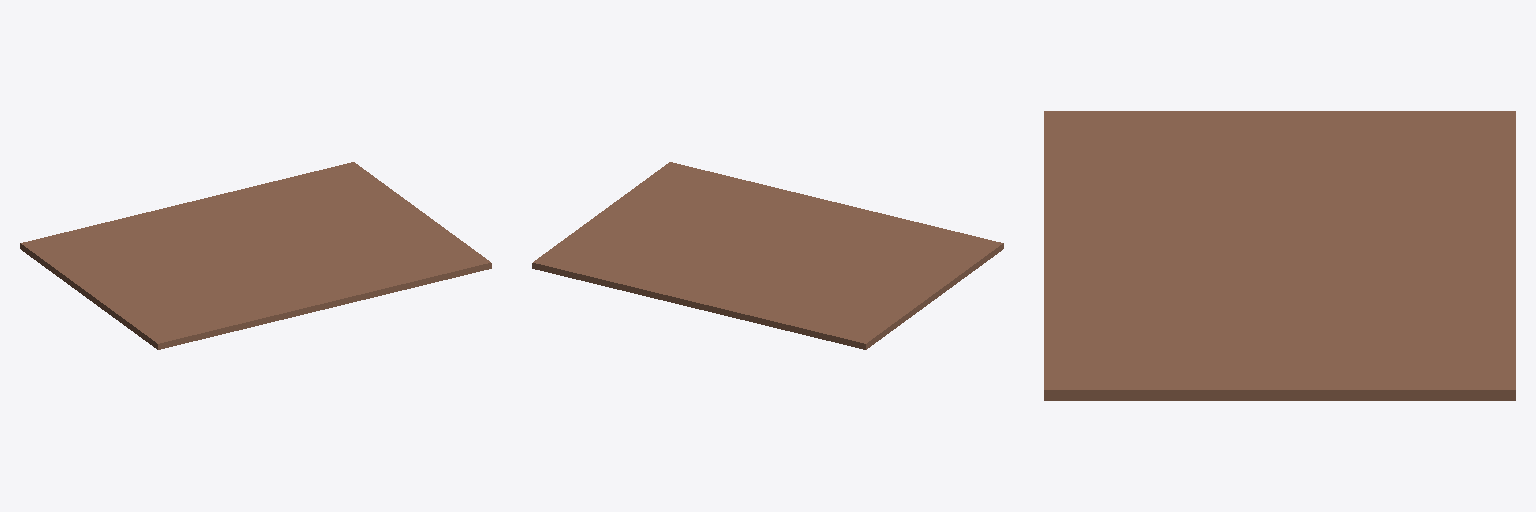
The robot description file, URDF, robot "kit.urdf":
<?xml version="0.0" ?>
<robot name="kit.urdf">
  <link name="baseLink">
    <contact>
      <lateral_friction value="1.0"/>
      <rolling_friction value="0.0001"/>
      <inertia_scaling value="3.0"/>
    </contact>
    <inertial>
      <origin rpy="0 0 0" xyz="0 0 0"/>
       <mass value=".1"/>
       <inertia ixx="1" ixy="0" ixz="0" iyy="1" iyz="0" izz="1"/>
    </inertial>
    <visual>
      <origin rpy="0 0 0" xyz="0 0 0"/>
      <geometry>
        <box size=".28 .2 .005"/>
      </geometry>
      <material name="brown">
        <color rgba="0.61176471 0.45882353 0.37254902 1"/>
      </material>
    </visual>
    <collision>
      <origin rpy="0 0 0" xyz="0 0 0"/>
      <geometry>
        <box size=".28 .2 .005"/>
      </geometry>
    </collision>
  </link>
</robot>

--- What the picture shows (computed from the rendered views, not written in the file) ---
The picture shows the robot from 3 angles, left to right: view 1: azimuth 30°, elevation 25°; view 2: azimuth 150°, elevation 25°; view 3: azimuth 270°, elevation 25°; orthographic projection.
Model kit.urdf with 1 links and 0 joints (none), rooted at baseLink, posed every joint at zero.
Links seen in each view (by area): view 1: baseLink; view 2: baseLink; view 3: baseLink.
Boxes of the visible links, x1=… form: baseLink: x1=20, y1=162, x2=491, y2=349; baseLink: x1=532, y1=162, x2=1003, y2=349; baseLink: x1=1044, y1=111, x2=1515, y2=400.
Size in the robot's own frame: 0.28 by 0.2 by 0.005 metres.
Geometry: primitives only (box / cylinder / sphere), no mesh files.